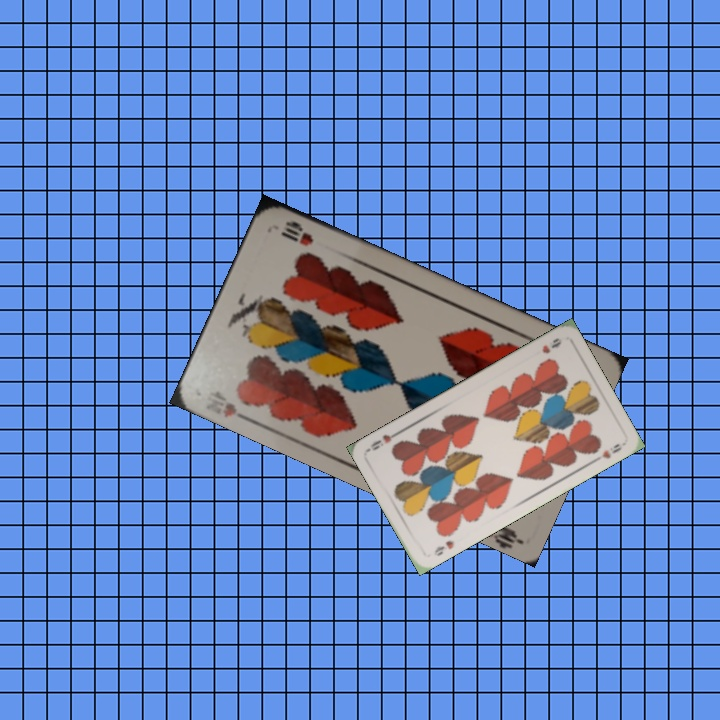H10: (218, 398, 254, 425)
H9: (430, 536, 456, 559), (538, 334, 564, 356)
